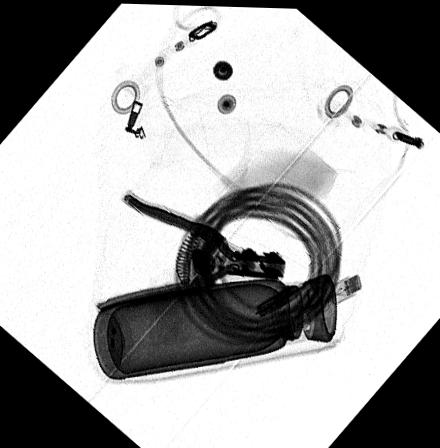Pliers: (93, 193, 285, 314)
